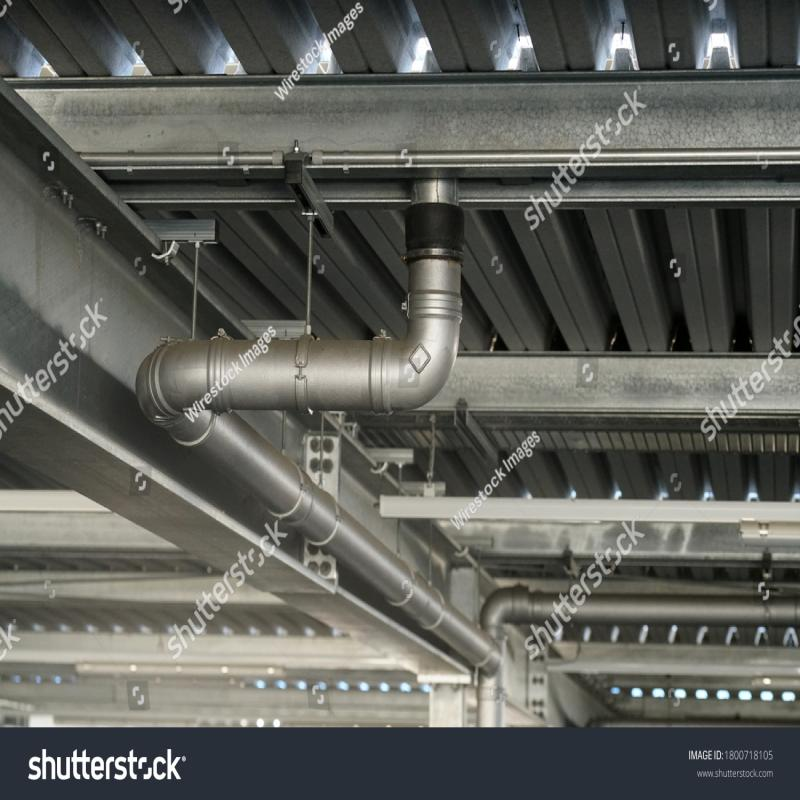Healthy: (116, 256, 468, 447), (228, 461, 533, 674)
